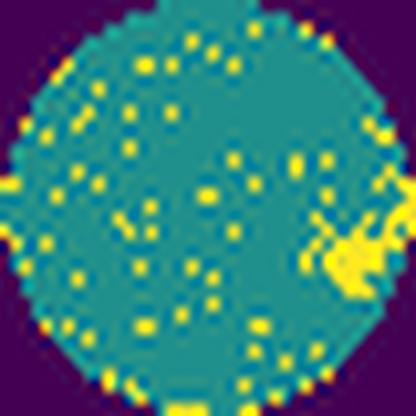Loc: (324, 180, 416, 302)
